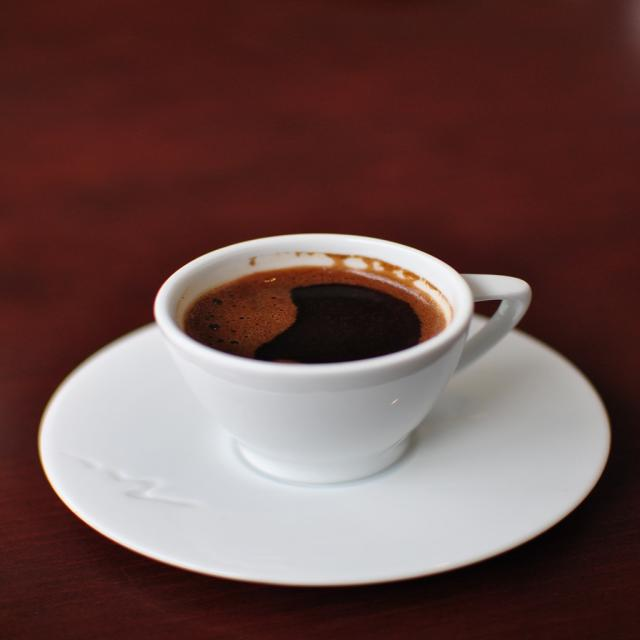Coffee: (170, 257, 520, 489)
